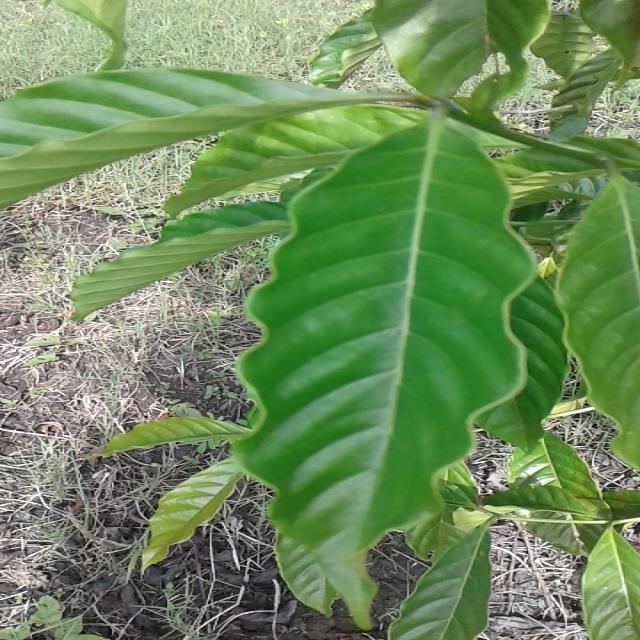Sanas: (231, 123, 557, 624)
